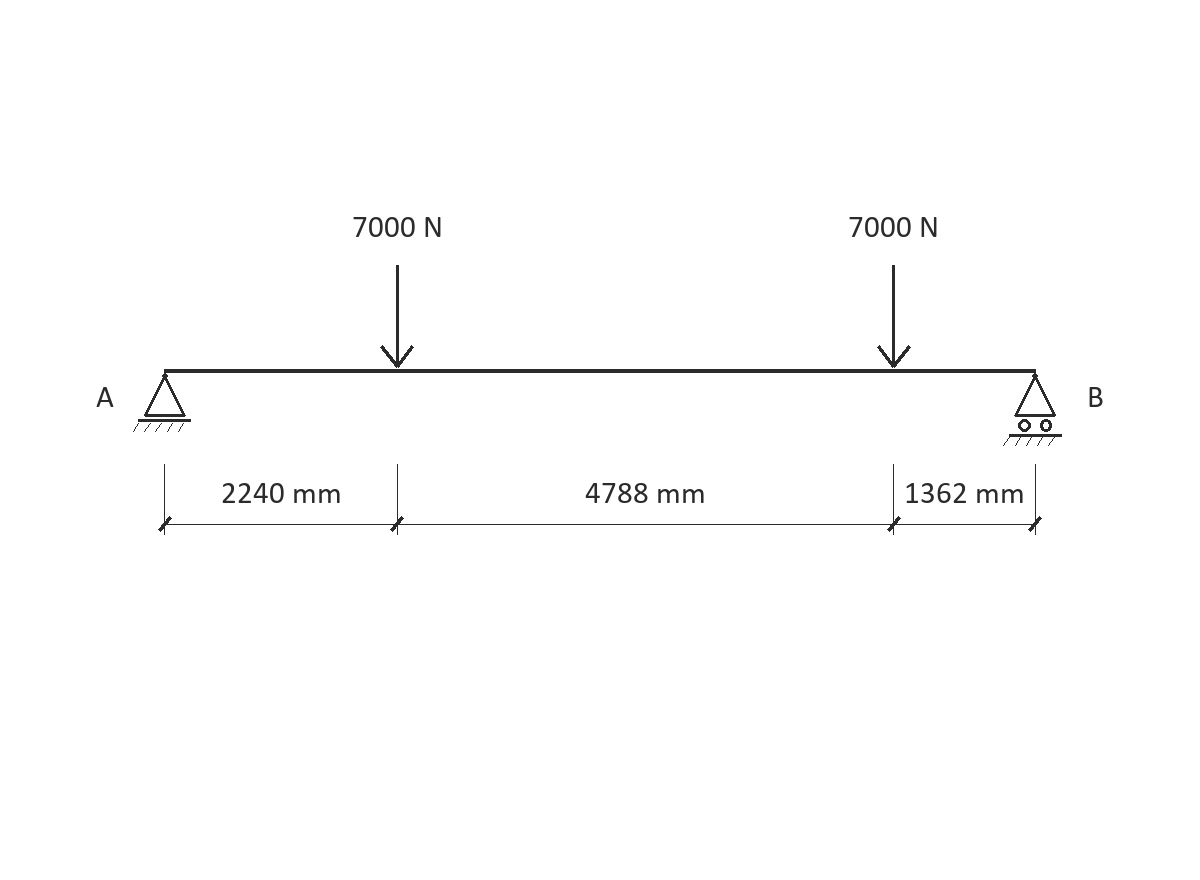pin_support: (133, 373, 191, 432)
point_load: (380, 265, 414, 368), (877, 265, 911, 368)
roller_support: (1003, 373, 1062, 446)
